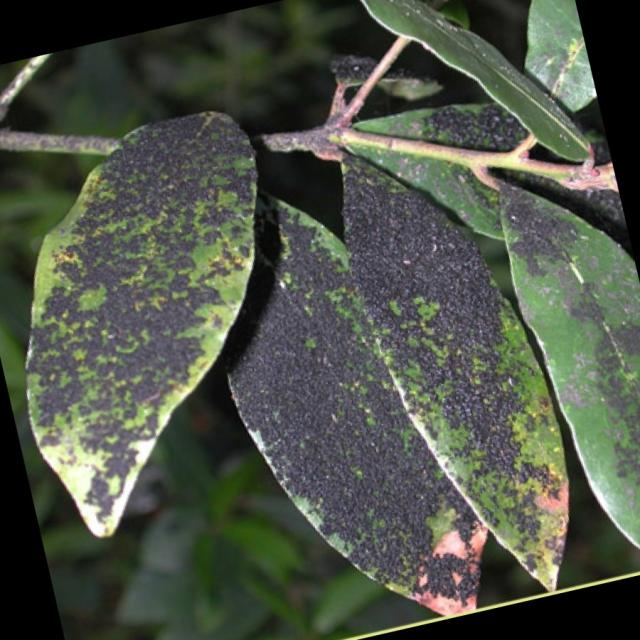Sooty Mold: (18, 52, 638, 618)
